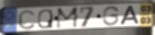7: (79, 6, 96, 29)
A: (119, 5, 141, 26)
C: (17, 9, 36, 31)
G: (102, 5, 121, 27)
M: (55, 6, 80, 30)
Q: (37, 8, 54, 29)
